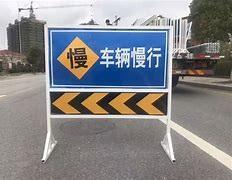sign: (45, 25, 170, 122)
